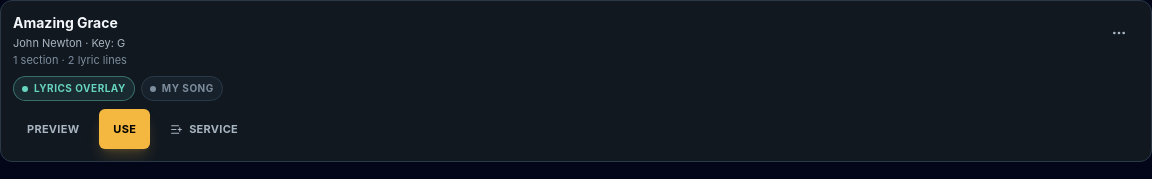
Test case: SongCard › my-songs cards expose Preview / Use / Service plus Edit, Duplicate, Delete in More
This screenshot has width=1152, height=179.
expect the button "Preview" is shown: met, box [13,109,93,149]
expect the button "Use" is shown: met, box [99,109,150,149]
Click the button named "More actions" at (1119, 33), box [1099,13,1139,53]
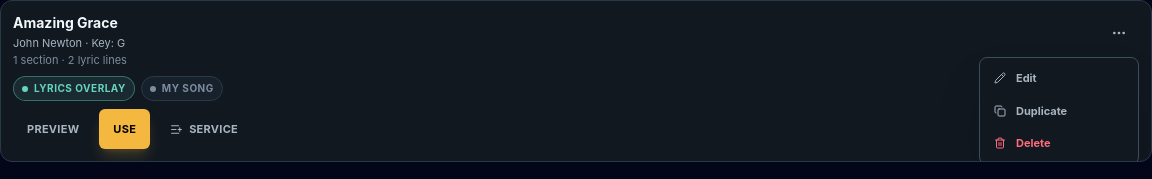
expect the menu item "Edit" is shown: met, box [984,62,1134,94]
expect the menu item "Duplicate" is shown: met, box [984,94,1134,127]
expect the menu item "Delete" is shown: met, box [984,127,1134,160]
